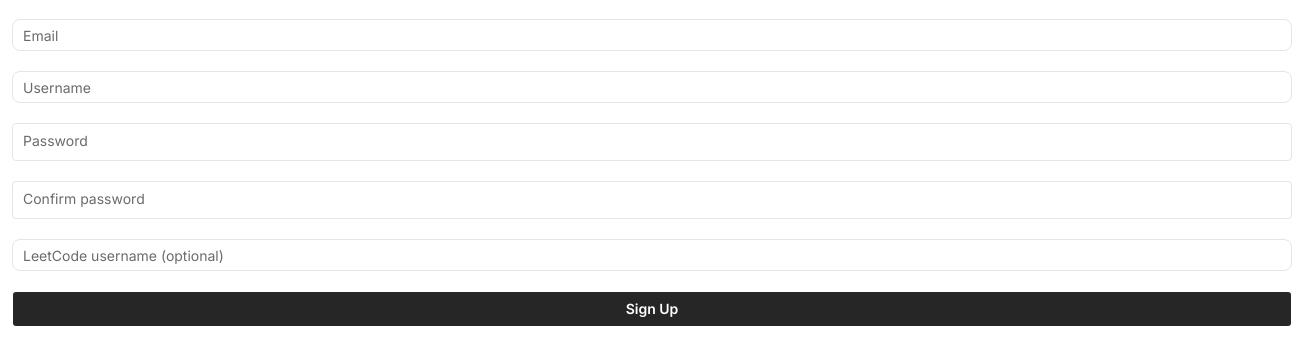
SignupForm › shows an email error after the field is blurred
Type "nope" into the field with placeholder "Email".
click(652, 35); type("nope")  # box [12,19,1292,51]
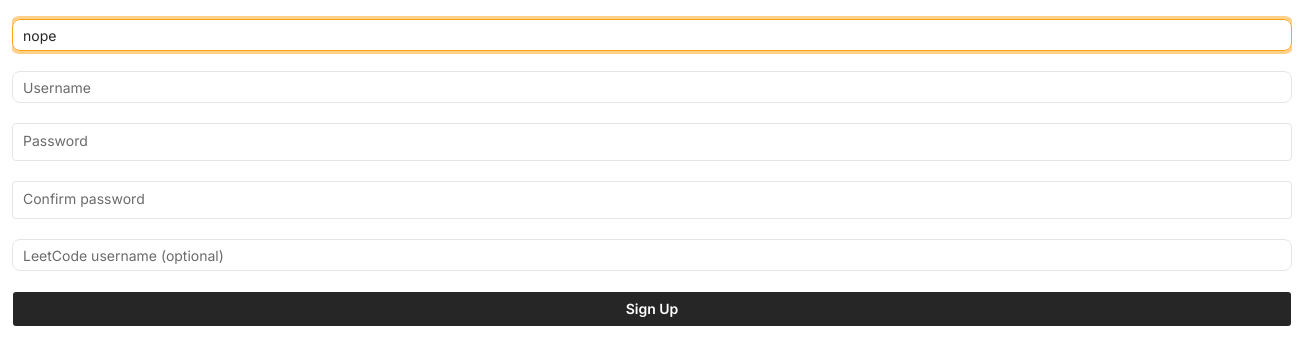
Press Tab
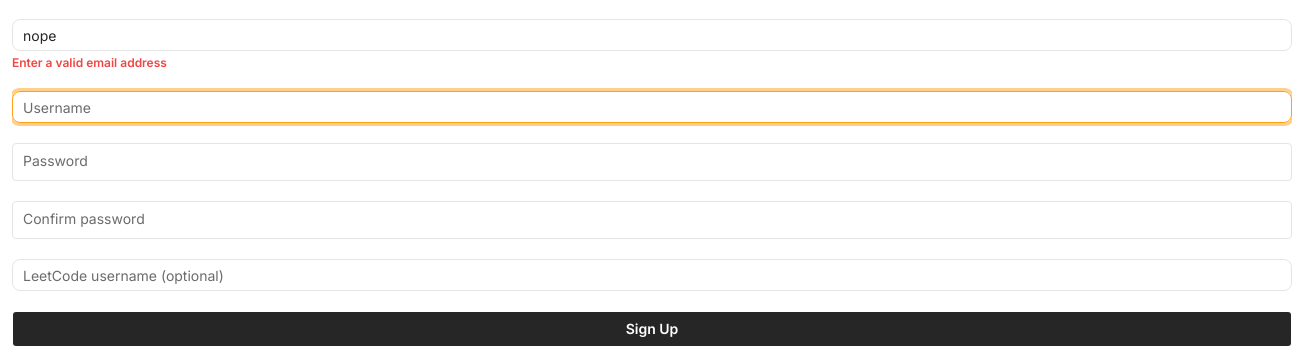
Expected: the text "Enter a valid email address" is shown, [12,55,167,70]
